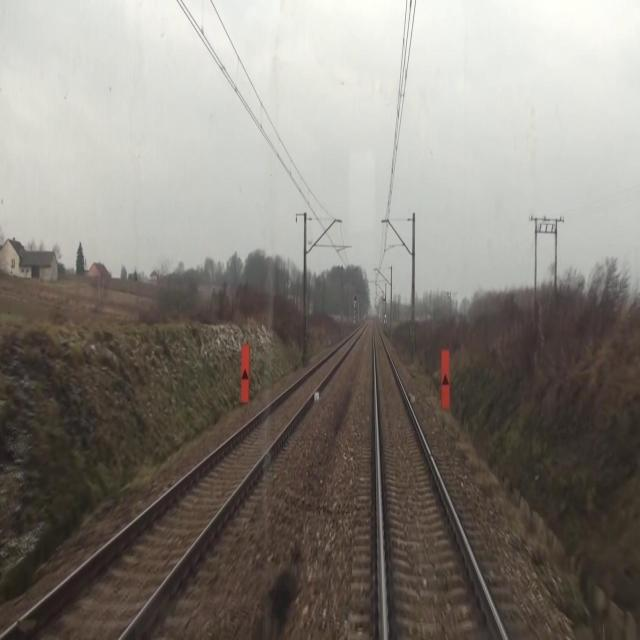rail-track: (4, 331, 360, 639), (375, 322, 504, 639)
